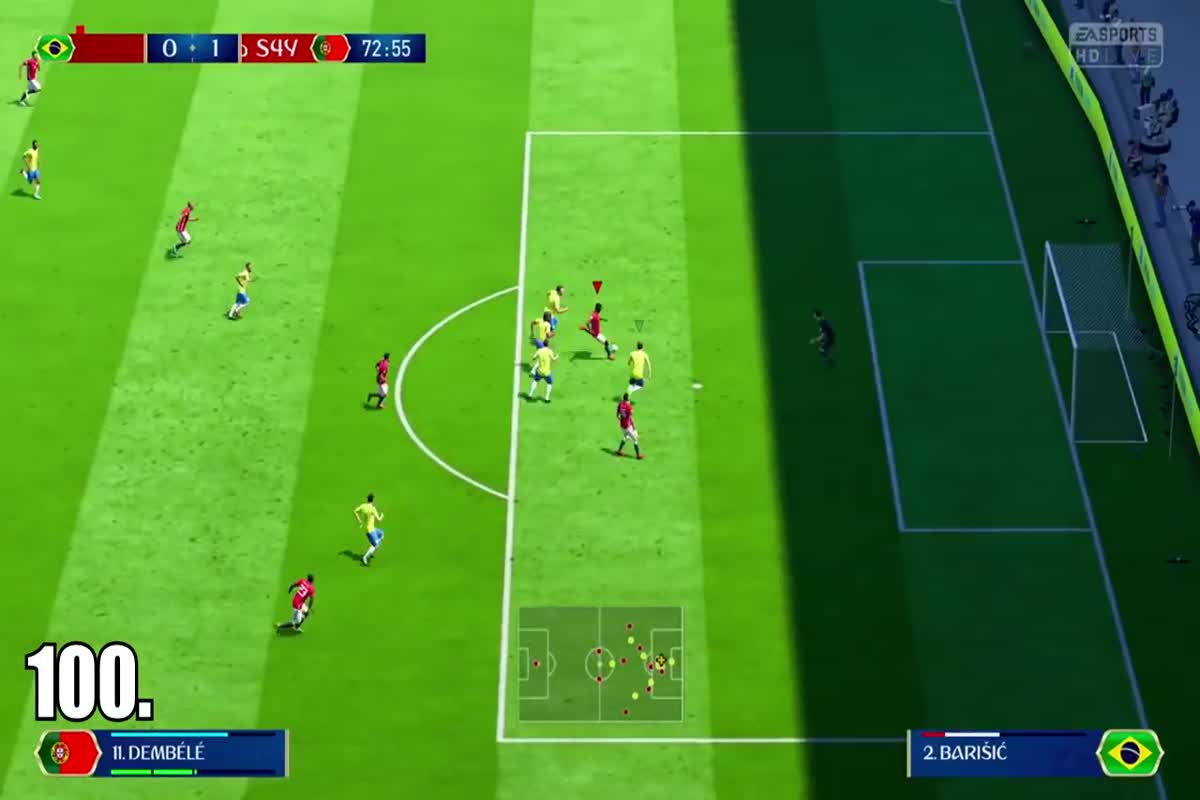ball: (606, 336, 628, 353)
